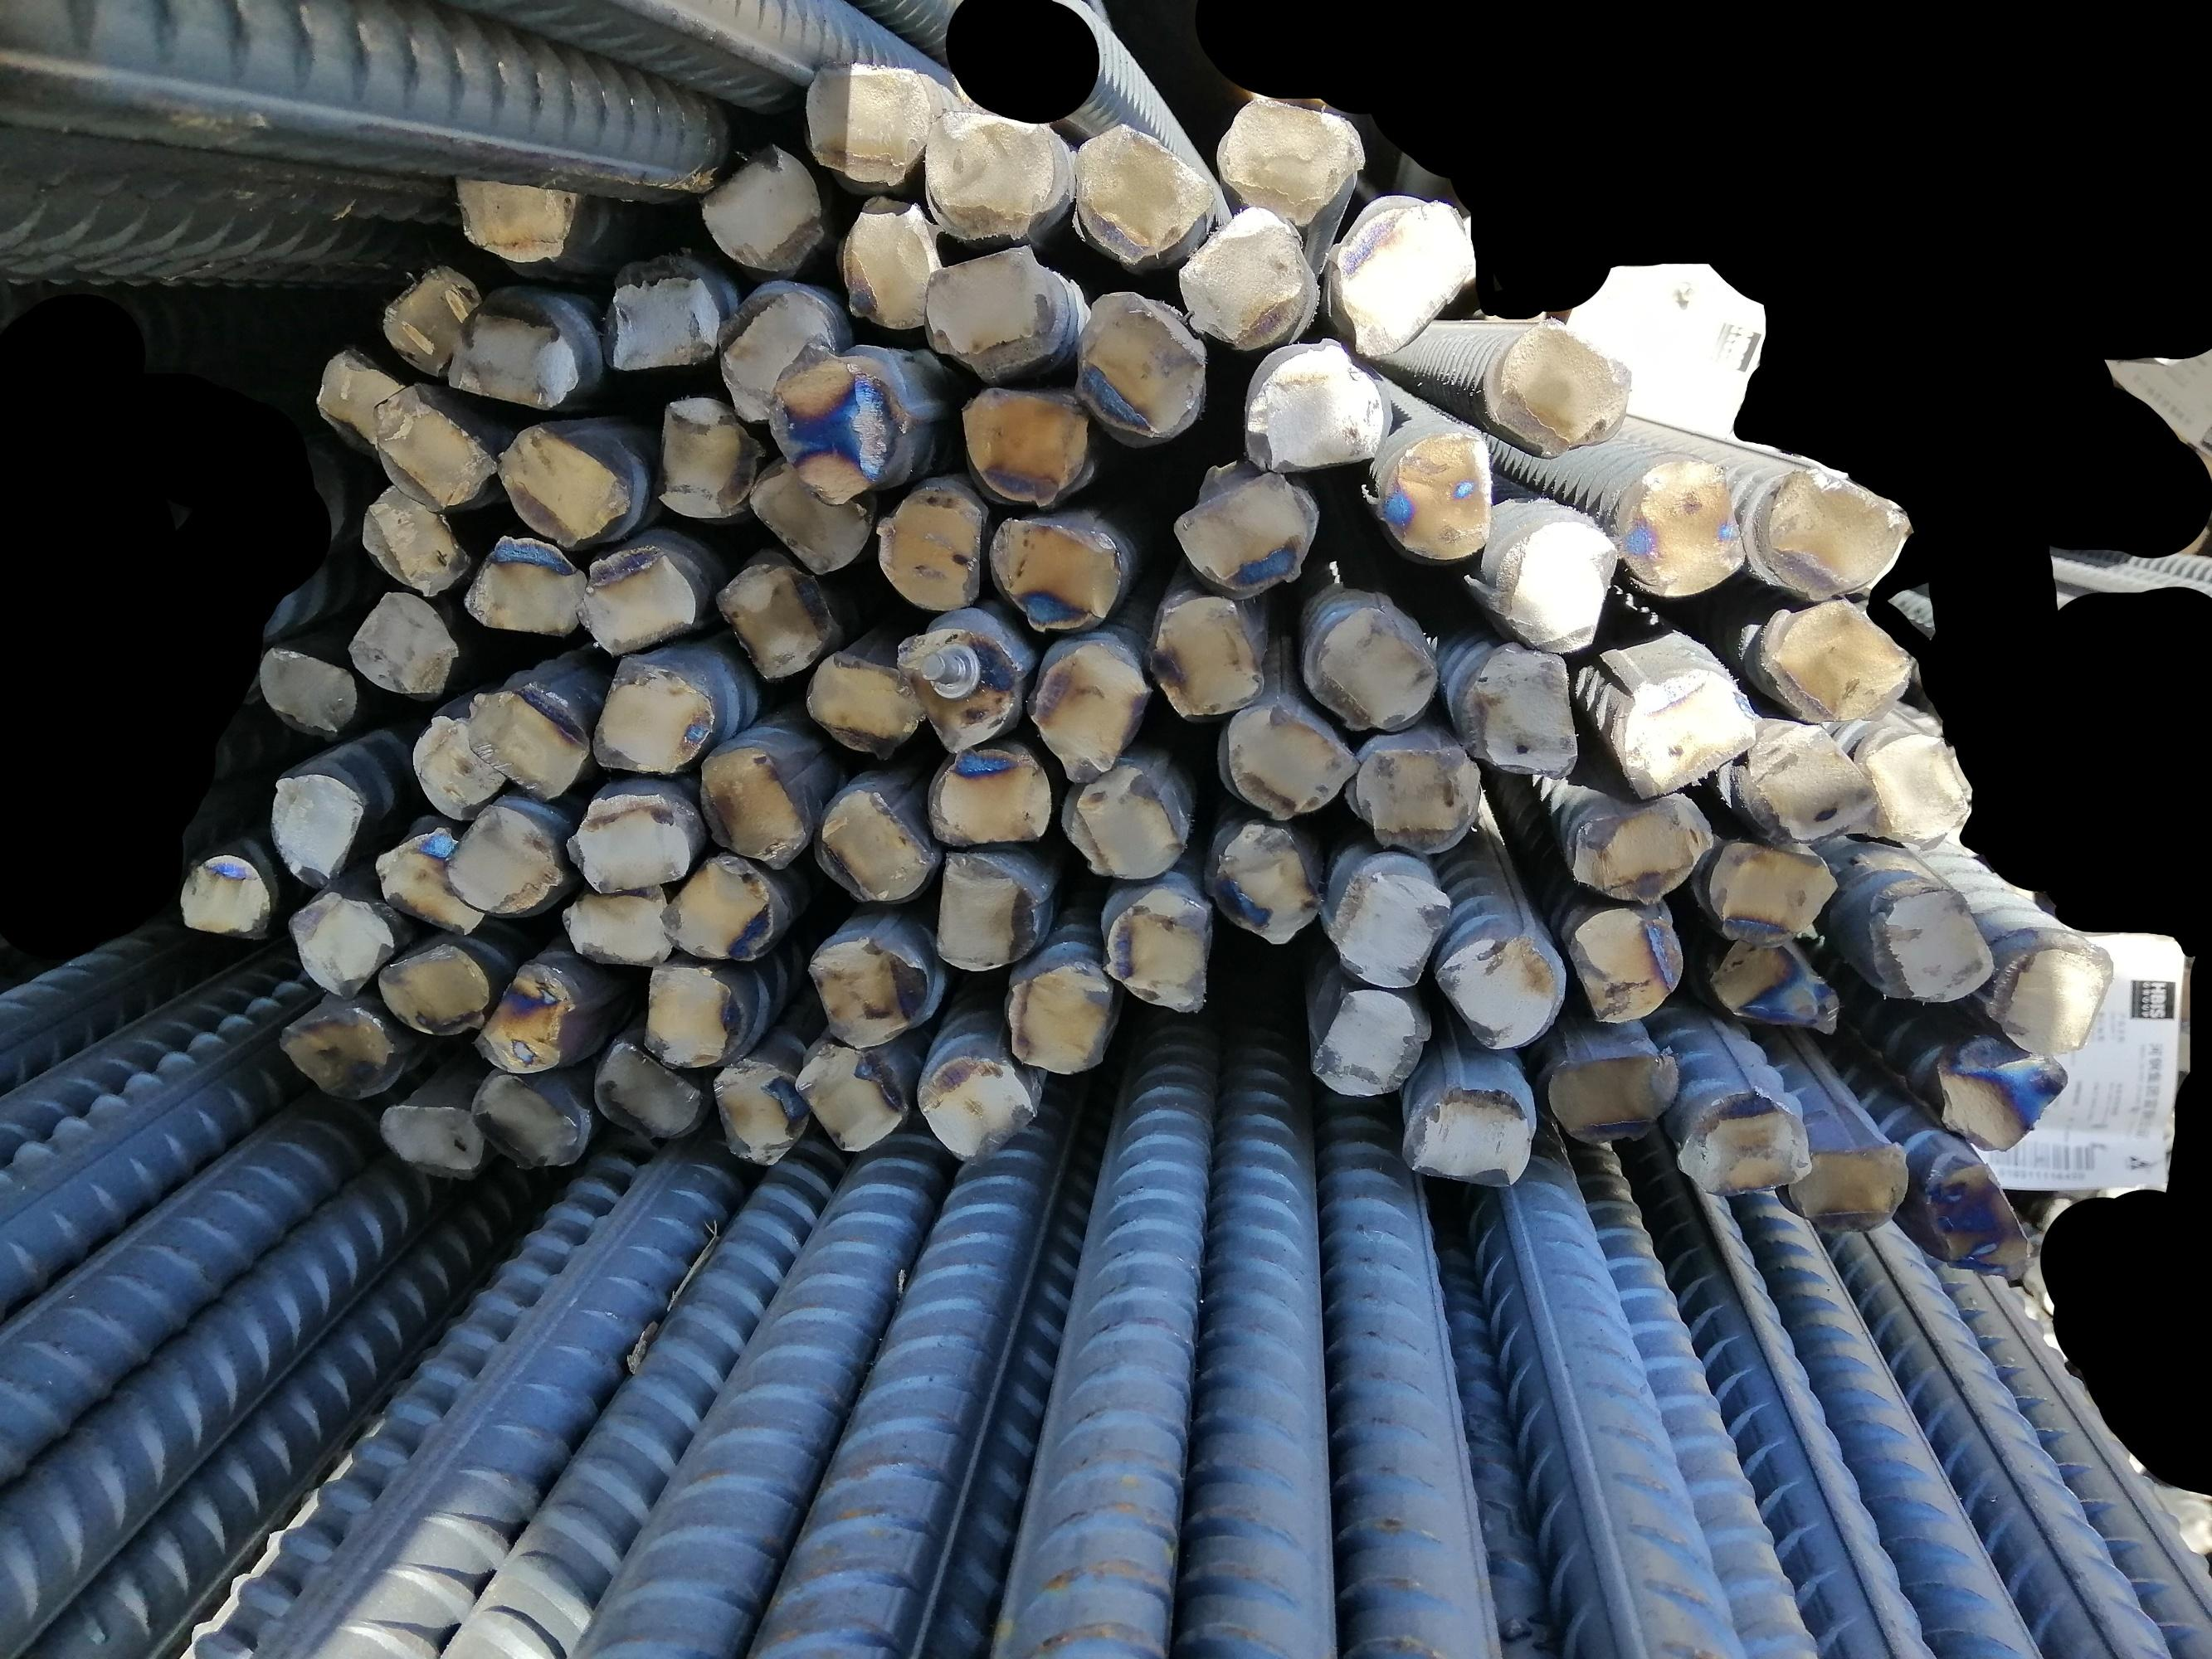bar: (1335, 186, 1483, 357), (763, 338, 903, 505), (1757, 462, 1914, 601), (1075, 286, 1210, 443), (1072, 120, 1215, 267), (1761, 601, 1919, 728), (924, 244, 1063, 385), (1614, 458, 1750, 601), (1614, 667, 1759, 802), (1220, 92, 1368, 223), (1245, 340, 1384, 477), (1300, 598, 1440, 735), (1171, 457, 1313, 592), (1178, 206, 1316, 343), (1729, 716, 1874, 847), (1367, 420, 1496, 566), (920, 108, 1058, 244), (1489, 511, 1616, 657), (798, 49, 933, 186), (1489, 314, 1616, 458), (1025, 643, 1152, 784), (1926, 1030, 2074, 1150), (1452, 647, 1581, 784), (955, 380, 1096, 505), (1569, 788, 1715, 906), (1215, 702, 1358, 823), (586, 652, 718, 781), (441, 148, 586, 265), (713, 284, 837, 420), (699, 145, 826, 275), (894, 620, 1020, 753), (1435, 924, 1560, 1054), (715, 551, 838, 683), (1346, 739, 1485, 856), (800, 638, 929, 763), (748, 448, 875, 573), (1562, 901, 1689, 1026), (1396, 1075, 1532, 1192), (988, 514, 1123, 631), (1855, 718, 1970, 854), (1675, 1084, 1813, 1197), (1870, 880, 1992, 1007), (1989, 931, 2111, 1058), (363, 383, 493, 502), (835, 190, 943, 333), (444, 296, 579, 411), (497, 423, 626, 542), (1150, 589, 1267, 720), (1327, 866, 1452, 986), (650, 394, 767, 523), (694, 737, 811, 866), (1921, 1157, 2038, 1286), (873, 483, 987, 613), (1546, 1040, 1680, 1150), (812, 779, 933, 901), (1206, 816, 1321, 943), (1063, 767, 1189, 882), (462, 685, 589, 798), (1100, 882, 1210, 1012), (805, 932, 931, 1046), (572, 545, 699, 657), (1708, 838, 1835, 950), (913, 1051, 1037, 1164), (1309, 985, 1433, 1098), (657, 850, 776, 967), (933, 842, 1039, 971), (927, 742, 1051, 852), (1708, 934, 1842, 1035), (443, 803, 561, 917), (350, 481, 471, 592), (1002, 958, 1114, 1079), (460, 532, 582, 641), (567, 793, 692, 899), (282, 885, 397, 1000), (373, 826, 490, 939), (791, 1040, 905, 1155), (378, 258, 485, 378), (260, 765, 364, 887), (1781, 1133, 1910, 1230), (601, 265, 722, 369), (272, 1006, 399, 1103), (349, 587, 457, 699), (589, 1037, 704, 1141), (471, 1072, 587, 1175), (472, 962, 575, 1079), (708, 1051, 809, 1166), (309, 345, 410, 457), (373, 943, 488, 1040), (406, 711, 507, 819), (640, 962, 739, 1068), (560, 882, 673, 969), (256, 643, 359, 737), (176, 847, 272, 943), (382, 1087, 481, 1180)
